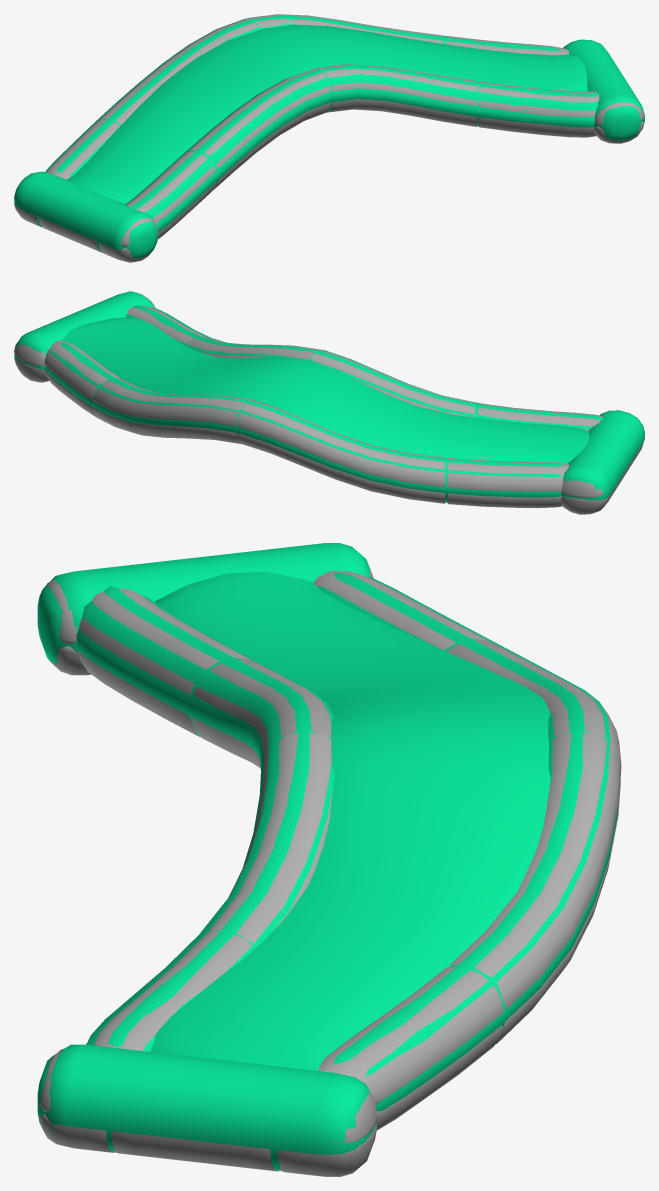
File: CurvedBridge.fbx
The picture shows the model from 3 angles, top to bottom: view 1: azimuth 30°, elevation 25°; view 2: azimuth 150°, elevation 25°; view 3: azimuth 270°, elevation 25°; orthographic projection. The views are drawn at different scales.
Visible parts, largest first — view 1: polySurface3206, polySurface3203, polySurface3209, polySurface3208, polySurface3204, polySurface3207, polySurface3210, polySurface3202, polySurface3201; view 2: polySurface3206, polySurface3204, polySurface3210, polySurface3203, polySurface3208, polySurface3209, polySurface3207, polySurface3202, polySurface3201; view 3: polySurface3206, polySurface3204, polySurface3207, polySurface3203, polySurface3209, polySurface3210, polySurface3208, polySurface3201, polySurface3202.
Part boxes in pixels (left/top/right/bottom): polySurface3206: left=67, top=24, right=587, bottom=204; polySurface3203: left=126, top=64, right=599, bottom=238; polySurface3209: left=125, top=65, right=598, bottom=231; polySurface3208: left=14, top=171, right=157, bottom=258; polySurface3204: left=45, top=14, right=568, bottom=179; polySurface3207: left=563, top=39, right=644, bottom=140; polySurface3210: left=45, top=15, right=561, bottom=177; polySurface3202: left=14, top=193, right=158, bottom=262; polySurface3201: left=594, top=102, right=644, bottom=143; polySurface3206: left=62, top=317, right=589, bottom=463; polySurface3204: left=44, top=340, right=569, bottom=508; polySurface3210: left=45, top=342, right=564, bottom=502; polySurface3203: left=126, top=305, right=602, bottom=430; polySurface3208: left=561, top=410, right=644, bottom=500; polySurface3209: left=126, top=305, right=603, bottom=429; polySurface3207: left=14, top=291, right=155, bottom=369; polySurface3202: left=561, top=442, right=643, bottom=514; polySurface3201: left=14, top=294, right=154, bottom=382; polySurface3206: left=151, top=571, right=550, bottom=1070; polySurface3204: left=313, top=571, right=621, bottom=1130; polySurface3207: left=37, top=1044, right=376, bottom=1170; polySurface3203: left=78, top=588, right=332, bottom=1051; polySurface3209: left=76, top=585, right=334, bottom=1051; polySurface3210: left=317, top=572, right=618, bottom=1111; polySurface3208: left=37, top=543, right=370, bottom=663; polySurface3201: left=39, top=1048, right=377, bottom=1176; polySurface3202: left=46, top=560, right=373, bottom=675.
Size of the model in its own units: 1913 by 277 by 819.
